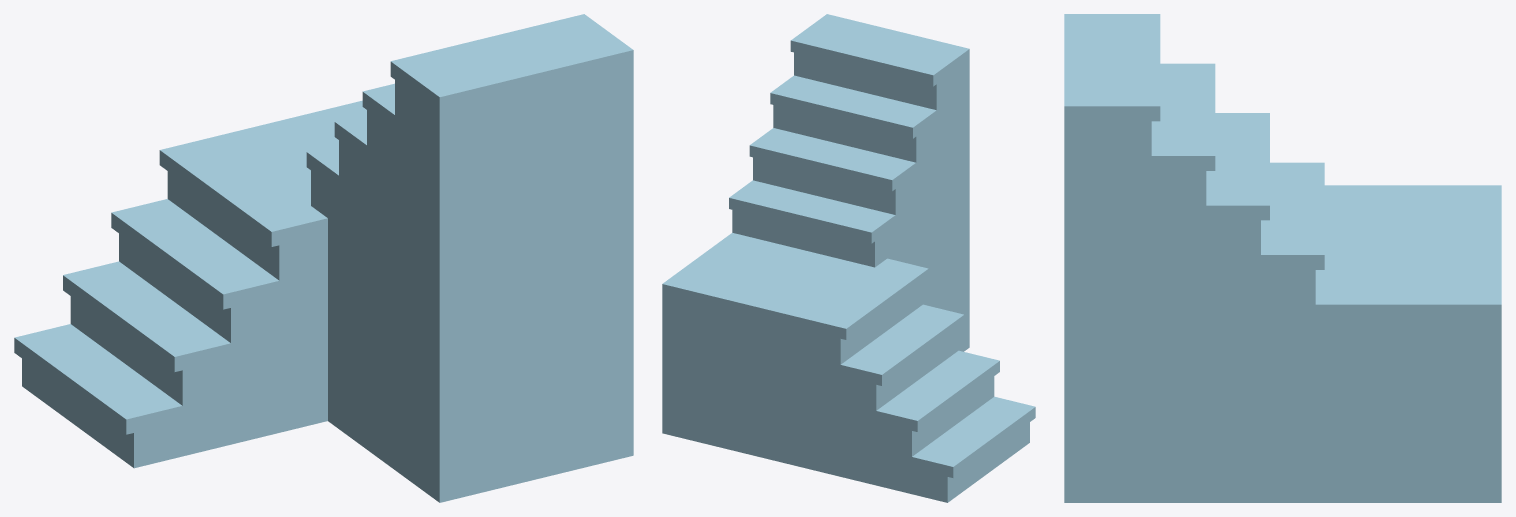
File: stairsStoneCorner.fbx
3 renders of one model, left to right at view 1: azimuth 30°, elevation 25°; view 2: azimuth 150°, elevation 25°; view 3: azimuth 270°, elevation 25°, orthographic. The views are drawn at different scales.
Parts seen in each view (by area): view 1: stairsStoneCorner; view 2: stairsStoneCorner; view 3: stairsStoneCorner.
Part boxes in pixels (left/top/right/bottom): stairsStoneCorner: left=14, top=14, right=633, bottom=502; stairsStoneCorner: left=662, top=14, right=1035, bottom=502; stairsStoneCorner: left=1064, top=14, right=1501, bottom=502.
Bounding box in the file's own units: 10.2 × 10 × 10.
